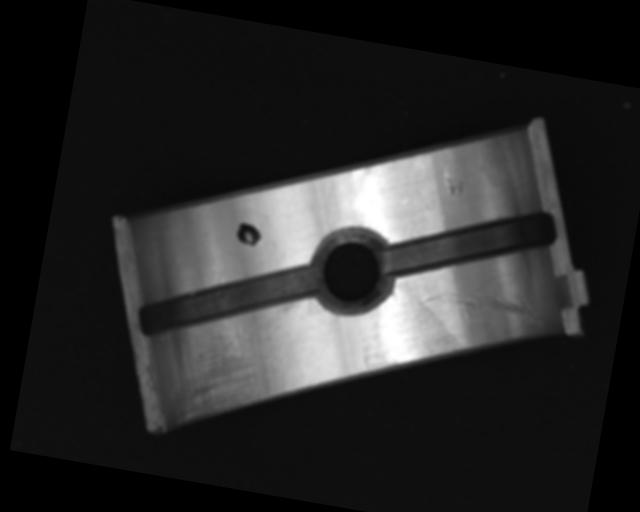blot: (233, 221, 264, 248)
bruise: (437, 161, 468, 198)
gap: (136, 238, 320, 364), (377, 186, 560, 301)
hole: (303, 221, 403, 325)
nick: (413, 261, 554, 331)
scratch: (165, 283, 299, 445)
